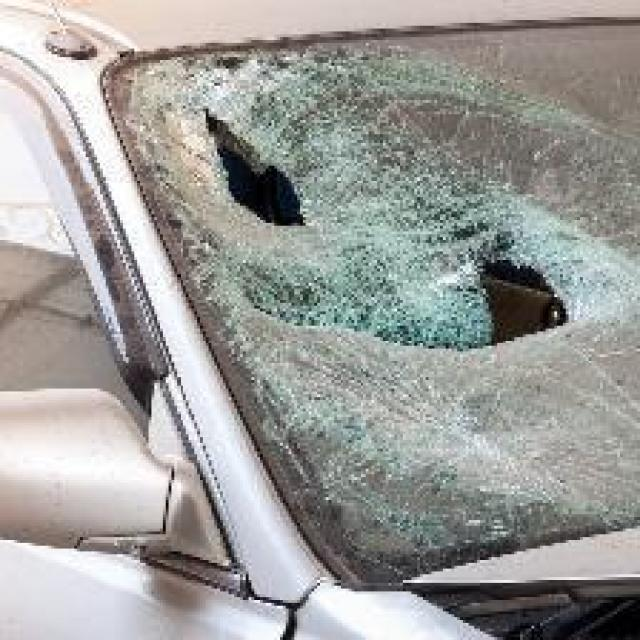damaged: (172, 51, 617, 586)
